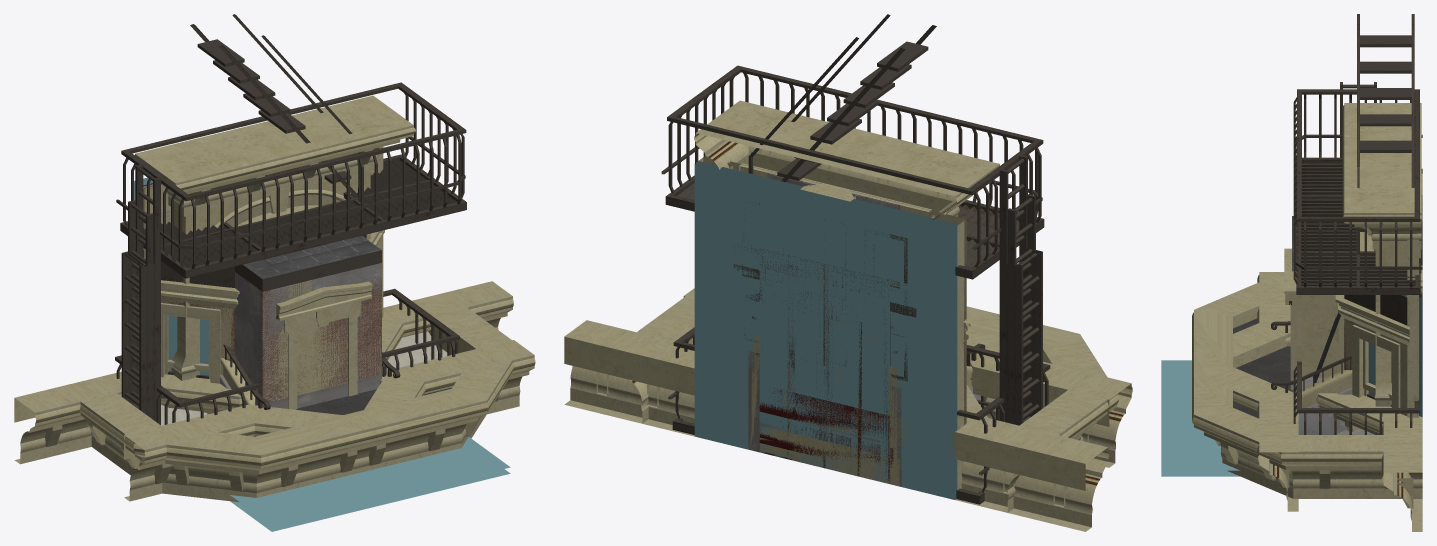
The model's file is decorators.glb.
3 views of the same model, side by side, from view 1: azimuth 30°, elevation 25°; view 2: azimuth 150°, elevation 25°; view 3: azimuth 270°, elevation 25° (orthographic). The views are drawn at different scales.
Parts seen in each view (by area): view 1: Prop_FireEscape_Bottom, Trim_BayWindow_Corner_L, Prop_EntranceArch, Trim_BayWindow_Corner_R, Trim_BayWindow_Top, Floor_4x4, Brick_Corner_Plain, Concrete_Corner, Trim_BayWindow, Marble_Corner_Plain, Roof_Slate_Window_1, Prop_FireEscape_GroundAccess (+9 smaller); view 2: Prop_FireEscape_Bottom, Metal_Panel_4, Trim_BayWindow_Top, Concrete_Plain_4, Brick_Inset, Prop_EntranceArch, Brick_Plain_3, Concrete_Plain_3, WornBrick_Inset_Plain, WornBrick_WindowLarge_Top, Trim_BayWindow_Corner_R, Trim_BayWindow_Corner_L (+12 smaller); view 3: Prop_FireEscape_Bottom, Trim_BayWindow_Corner_R, Prop_EntranceArch, Trim_BayWindow_Corner_L, Trim_BayWindow, Floor_4x4, Trim_BayWindow_Top, Roof_Slate_Window_1, Marble_WindowTriple, Prop_FireEscape_Center, Stairs_Rails_Concrete, Metal_BayWindow_Bottom (+2 smaller).
Boxes of the visible parts, bbox=[...] form: Prop_FireEscape_Bottom: bbox=[116, 14, 466, 424]; Trim_BayWindow_Corner_L: bbox=[80, 340, 535, 502]; Prop_EntranceArch: bbox=[135, 95, 415, 380]; Trim_BayWindow_Corner_R: bbox=[124, 292, 515, 501]; Trim_BayWindow_Top: bbox=[14, 281, 513, 464]; Floor_4x4: bbox=[230, 437, 510, 531]; Brick_Corner_Plain: bbox=[236, 270, 381, 402]; Concrete_Corner: bbox=[235, 263, 381, 400]; Trim_BayWindow: bbox=[161, 230, 384, 383]; Marble_Corner_Plain: bbox=[235, 280, 381, 401]; Roof_Slate_Window_1: bbox=[276, 281, 372, 409]; Prop_FireEscape_GroundAccess: bbox=[121, 251, 154, 420]; Prop_FireEscape_Bottom: bbox=[661, 14, 1044, 424]; Metal_Panel_4: bbox=[694, 164, 955, 499]; Trim_BayWindow_Top: bbox=[564, 320, 1109, 531]; Concrete_Plain_4: bbox=[759, 174, 897, 481]; Brick_Inset: bbox=[694, 232, 955, 498]; Prop_EntranceArch: bbox=[694, 100, 999, 221]; Brick_Plain_3: bbox=[759, 248, 889, 415]; Concrete_Plain_3: bbox=[759, 248, 889, 415]; WornBrick_Inset_Plain: bbox=[694, 233, 955, 498]; WornBrick_WindowLarge_Top: bbox=[694, 232, 955, 499]; Trim_BayWindow_Corner_R: bbox=[621, 290, 1132, 467]; Trim_BayWindow_Corner_L: bbox=[683, 288, 1119, 512]; Prop_FireEscape_Bottom: bbox=[1293, 14, 1422, 294]; Trim_BayWindow_Corner_R: bbox=[1192, 272, 1422, 498]; Prop_EntranceArch: bbox=[1342, 103, 1422, 406]; Trim_BayWindow_Corner_L: bbox=[1192, 272, 1298, 511]; Trim_BayWindow: bbox=[1332, 295, 1422, 417]; Floor_4x4: bbox=[1161, 360, 1239, 476]; Trim_BayWindow_Top: bbox=[1316, 393, 1422, 531]; Roof_Slate_Window_1: bbox=[1284, 248, 1344, 389]; Marble_WindowTriple: bbox=[1407, 168, 1422, 417]; Prop_FireEscape_Center: bbox=[1293, 361, 1419, 434]; Stairs_Rails_Concrete: bbox=[1271, 321, 1352, 434]; Metal_BayWindow_Bottom: bbox=[1344, 295, 1422, 406].
Bounding box in the file's own units: 8 × 6.35 × 4.
Materials: 11 (10 with a texture image).
